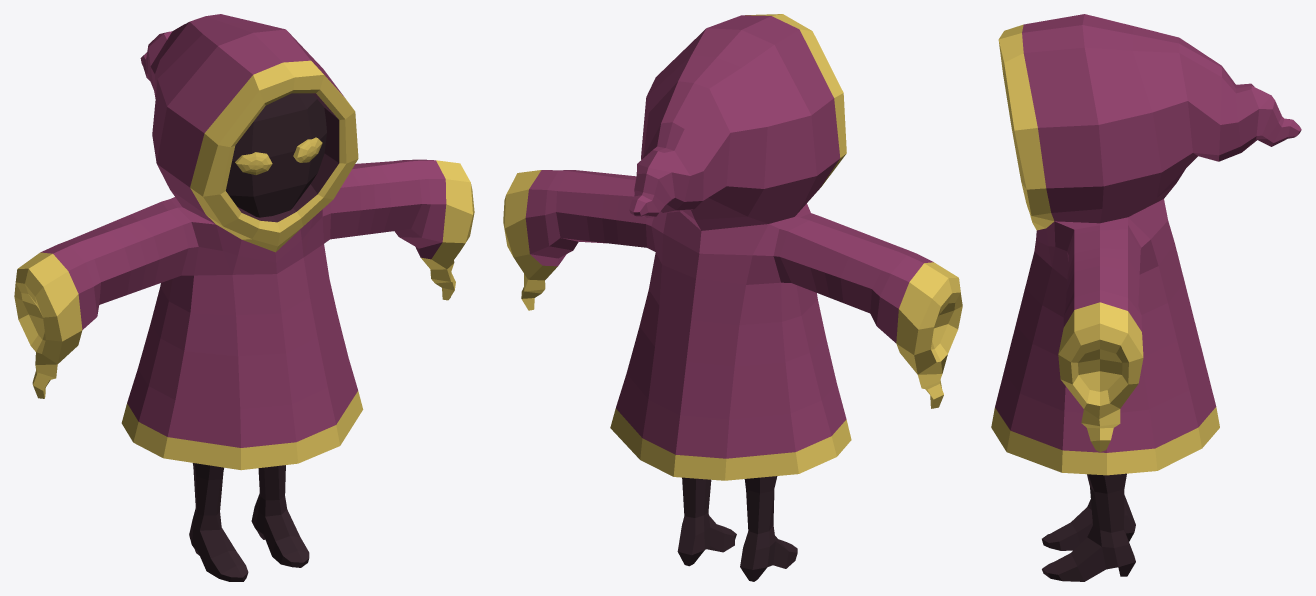
Rendered from witch_v1.fbx.
The picture shows the model from 3 angles, left to right: view 1: azimuth 30°, elevation 25°; view 2: azimuth 150°, elevation 25°; view 3: azimuth 270°, elevation 25°; orthographic projection.
Parts seen in each view (by area): view 1: char_body, char_head, char_l_leg, char_r_leg, char_l_eye; view 2: char_body, char_l_leg, char_r_leg; view 3: char_body, char_r_leg, char_l_leg.
Boxes of the visible parts, bbox=[...] form: char_body: bbox=[14, 14, 474, 470]; char_head: bbox=[226, 93, 326, 217]; char_l_leg: bbox=[189, 463, 248, 581]; char_r_leg: bbox=[251, 465, 309, 567]; char_l_eye: bbox=[235, 152, 272, 174]; char_body: bbox=[503, 14, 962, 480]; char_l_leg: bbox=[740, 476, 797, 581]; char_r_leg: bbox=[677, 477, 736, 566]; char_body: bbox=[991, 14, 1301, 475]; char_r_leg: bbox=[1042, 473, 1135, 581]; char_l_leg: bbox=[1042, 495, 1135, 550].
Bounding box in the file's own units: 145 × 167 × 87.93.
